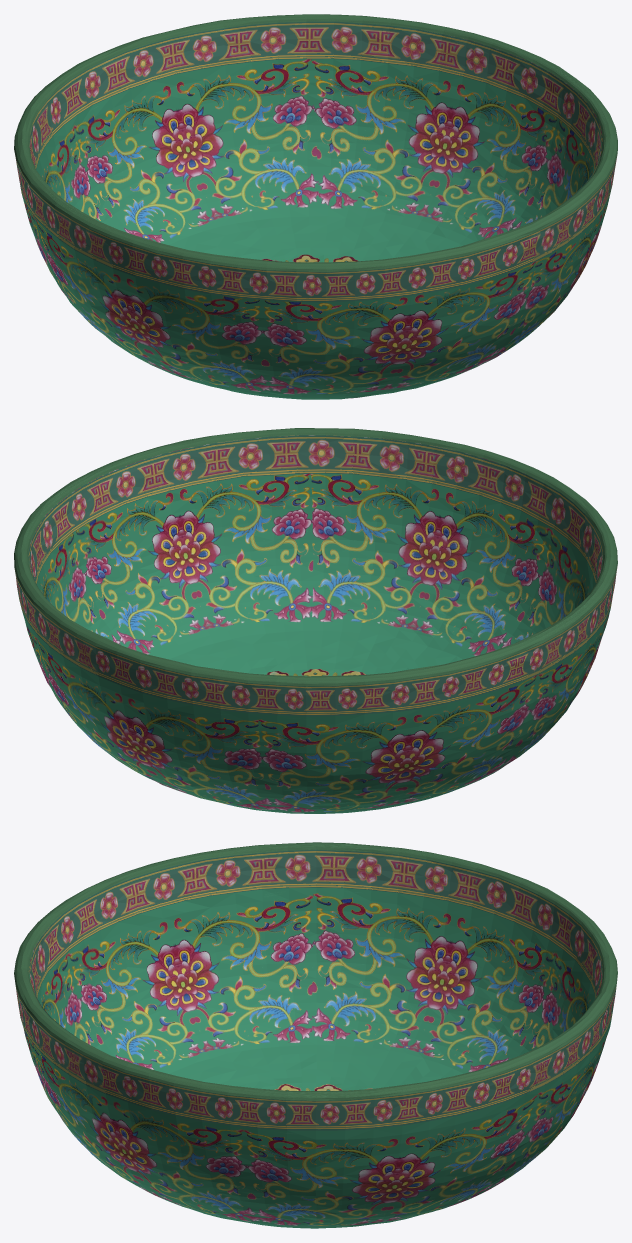
The model's file is Sink spexi_srk06.obj.
3 renders of one model, top to bottom at view 1: azimuth 30°, elevation 25°; view 2: azimuth 150°, elevation 25°; view 3: azimuth 270°, elevation 25°, orthographic.
Parts seen in each view (by area): view 1: spexi_srk_06; view 2: spexi_srk_06; view 3: spexi_srk_06.
Part boxes in pixels (left/top/right/bottom): spexi_srk_06: left=14, top=14, right=617, bottom=399; spexi_srk_06: left=14, top=428, right=617, bottom=813; spexi_srk_06: left=14, top=842, right=617, bottom=1228.
Size of the model in its own units: 16.24 by 6.09 by 16.24.
